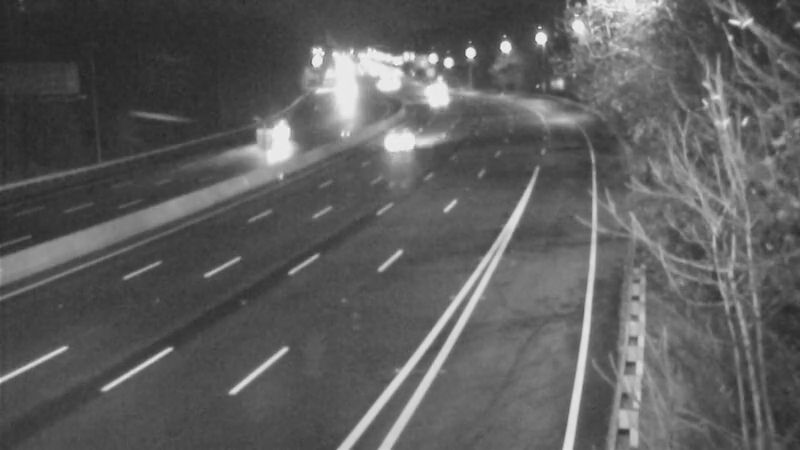vehicle: (403, 72, 453, 122), (367, 109, 417, 159), (256, 114, 306, 164)
